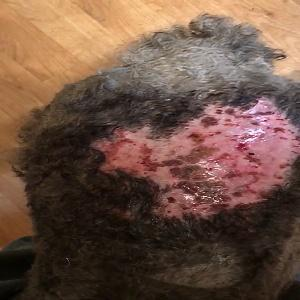skin_lesions: (85, 89, 299, 217)
